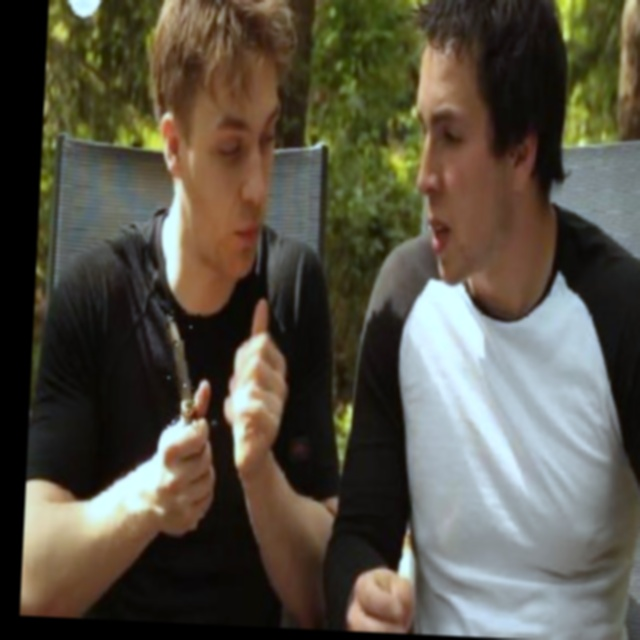Sharp-Object: (164, 312, 201, 428)
